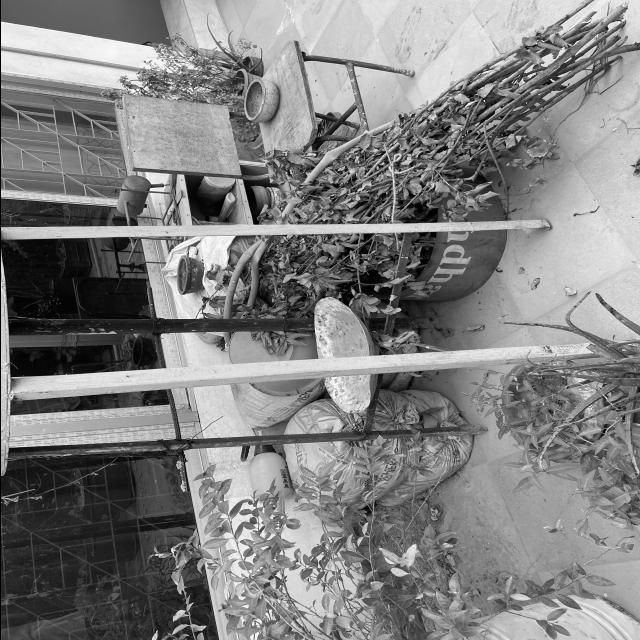Breeding Place: (364, 579, 639, 640), (494, 343, 624, 467), (308, 293, 377, 417), (580, 414, 640, 532), (241, 78, 279, 122), (174, 255, 202, 292)
